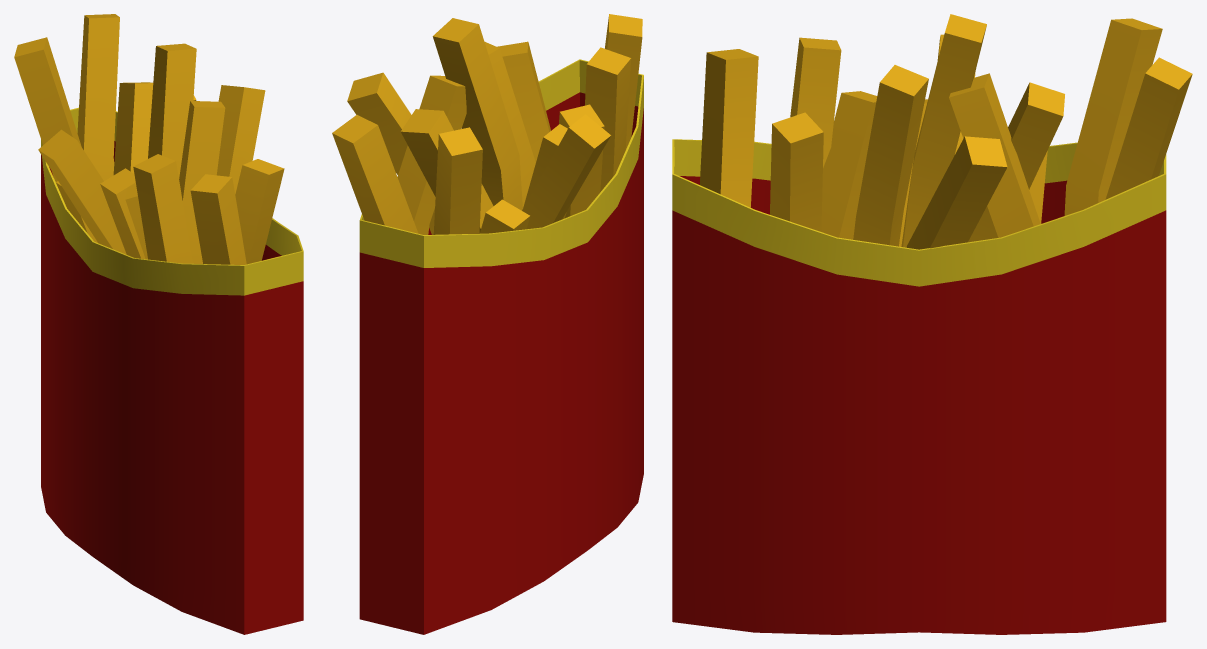
File: potato.fbx
3 renders of one model, left to right at view 1: azimuth 30°, elevation 25°; view 2: azimuth 150°, elevation 25°; view 3: azimuth 270°, elevation 25°, orthographic. The views are drawn at different scales.
Visible parts, largest first — view 1: Plane, Cube.013; view 2: Plane, Cube.013; view 3: Plane, Cube.013.
Part boxes in pixels (x1=…): Plane: x1=41, y1=107, x2=303, y2=634; Cube.013: x1=14, y1=14, x2=284, y2=264; Plane: x1=359, y1=59, x2=643, y2=634; Cube.013: x1=332, y1=14, x2=642, y2=234; Plane: x1=672, y1=139, x2=1166, y2=634; Cube.013: x1=699, y1=14, x2=1192, y2=249.
Size of the model in its own units: 128 by 266 by 211.
